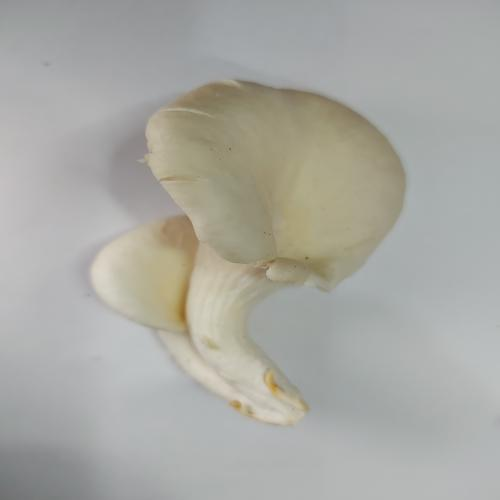Oyster Mushroom: (89, 78, 407, 427)
